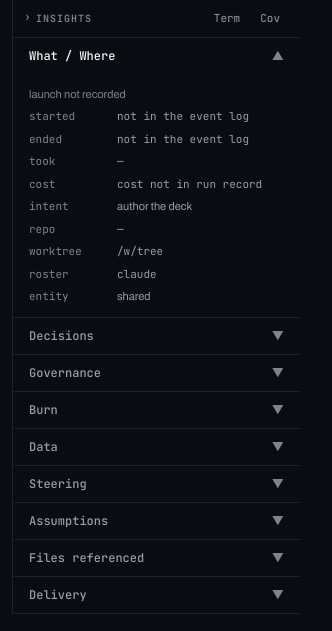
Scenario: before the defs load, a run with no deliver phase gets no section at all › a daemon before run_identity (api-types < 0.46.0), cold: the worktree fact only, never the claim
Step 1. Click the button "Delivery ▼" → [58, 594], box [13,576,300,612]
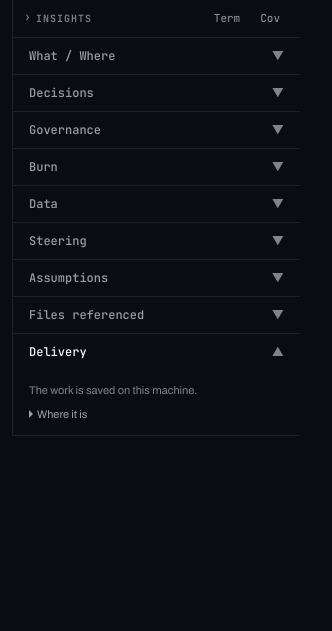
expect the element with test id "run-delivery" does not show "This run has no deliver phase.": met, box [29,384,197,420]
expect the element with test id "run-delivery" shows "The work is saved on this machine.": met, box [29,384,197,420]
